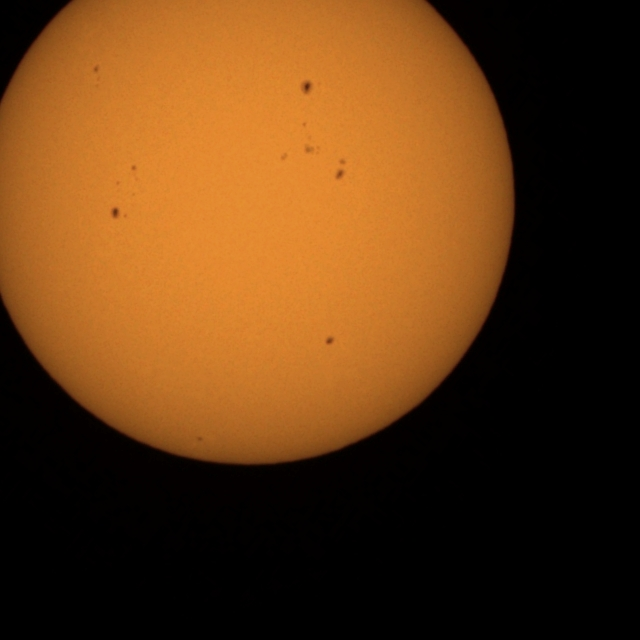sunspot: (302, 137, 322, 157), (334, 157, 348, 182), (92, 63, 102, 90), (299, 79, 314, 96), (110, 206, 128, 220), (324, 335, 336, 346), (92, 64, 101, 77), (279, 152, 289, 162), (130, 163, 138, 173), (196, 435, 204, 443), (301, 121, 308, 129), (115, 180, 121, 187)
